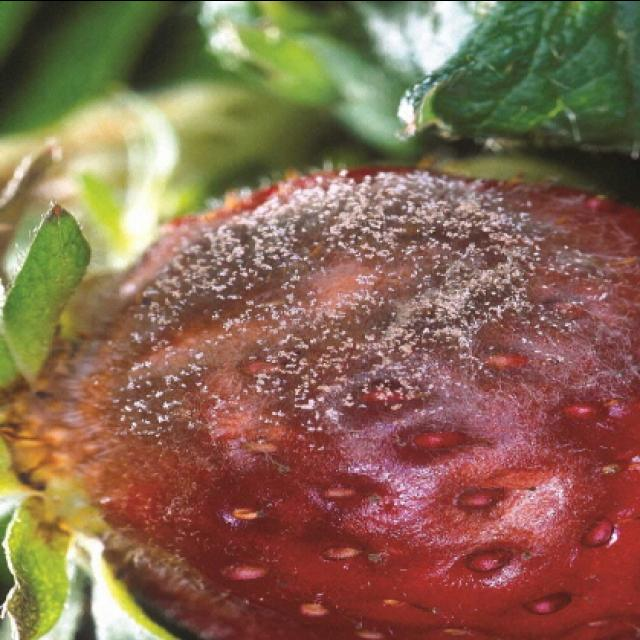Gray Mold: (22, 165, 638, 638)
